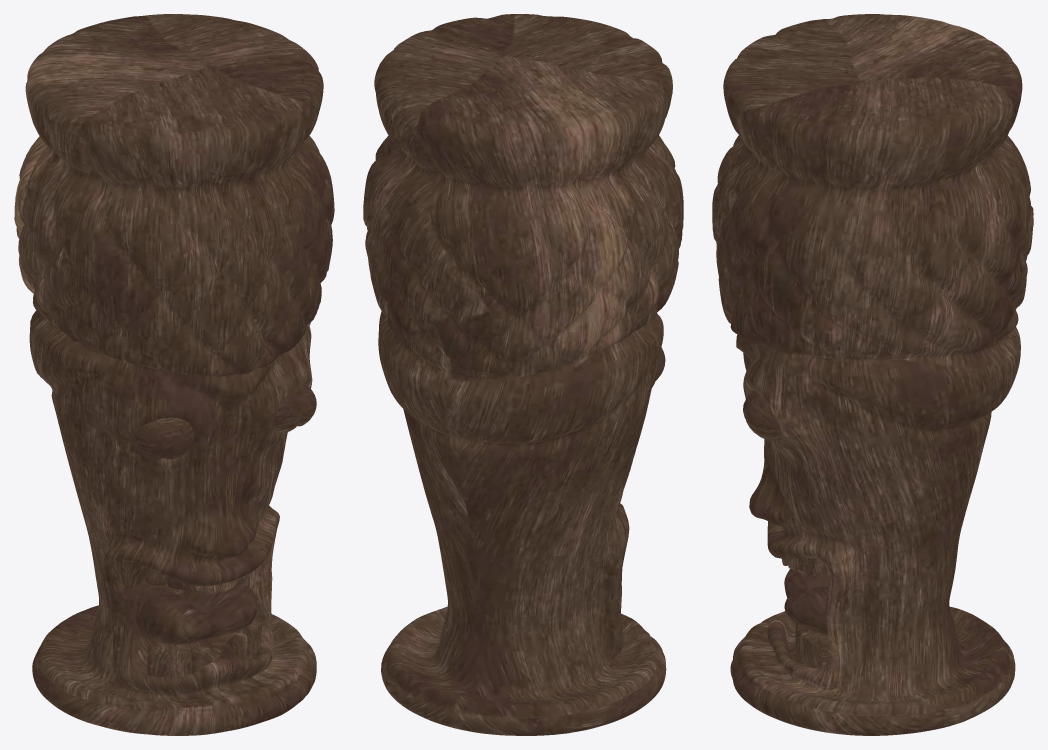
Rendered from sculpture-totem.glb.
The picture shows the model from 3 angles, left to right: view 1: azimuth 30°, elevation 25°; view 2: azimuth 150°, elevation 25°; view 3: azimuth 270°, elevation 25°; orthographic projection.
Visible parts, largest first — view 1: Merged_PM3D_Cube3D17; view 2: Merged_PM3D_Cube3D17; view 3: Merged_PM3D_Cube3D17.
Boxes of the visible parts, bbox=[...] form: Merged_PM3D_Cube3D17: bbox=[14, 14, 334, 735]; Merged_PM3D_Cube3D17: bbox=[363, 14, 683, 735]; Merged_PM3D_Cube3D17: bbox=[712, 14, 1033, 735].
Bounding box in the file's own units: 1.5 × 3.16 × 1.5.
Materials: 1 (1 with a texture image).
